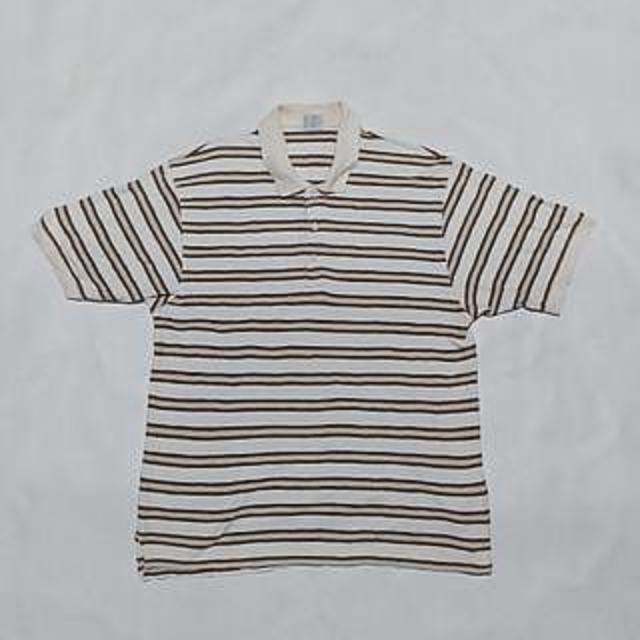T_SHIRT: (30, 92, 609, 586)
